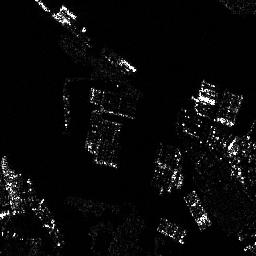ship: (116, 58, 137, 72)
